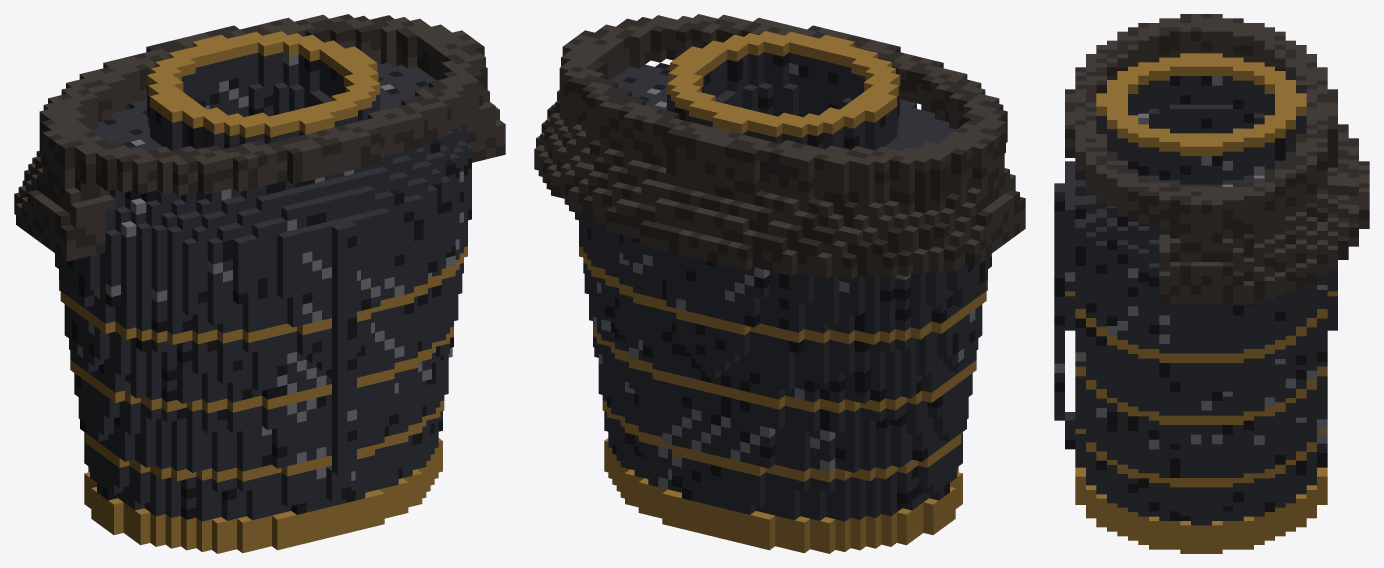
Rendered from plate_rare_chest.glb.
3 views of the same model, side by side, from view 1: azimuth 30°, elevation 25°; view 2: azimuth 150°, elevation 25°; view 3: azimuth 270°, elevation 25° (orthographic). The views are drawn at different scales.
Parts seen in each view (by area): view 1: plate_rare_chest; view 2: plate_rare_chest; view 3: plate_rare_chest.
Part boxes in pixels (x1,y1,x2,y2): plate_rare_chest: (14,14,505,553); plate_rare_chest: (534,14,1025,553); plate_rare_chest: (1054,14,1369,553).
Bounding box in the file's own units: 0.54 × 0.48 × 0.36.
